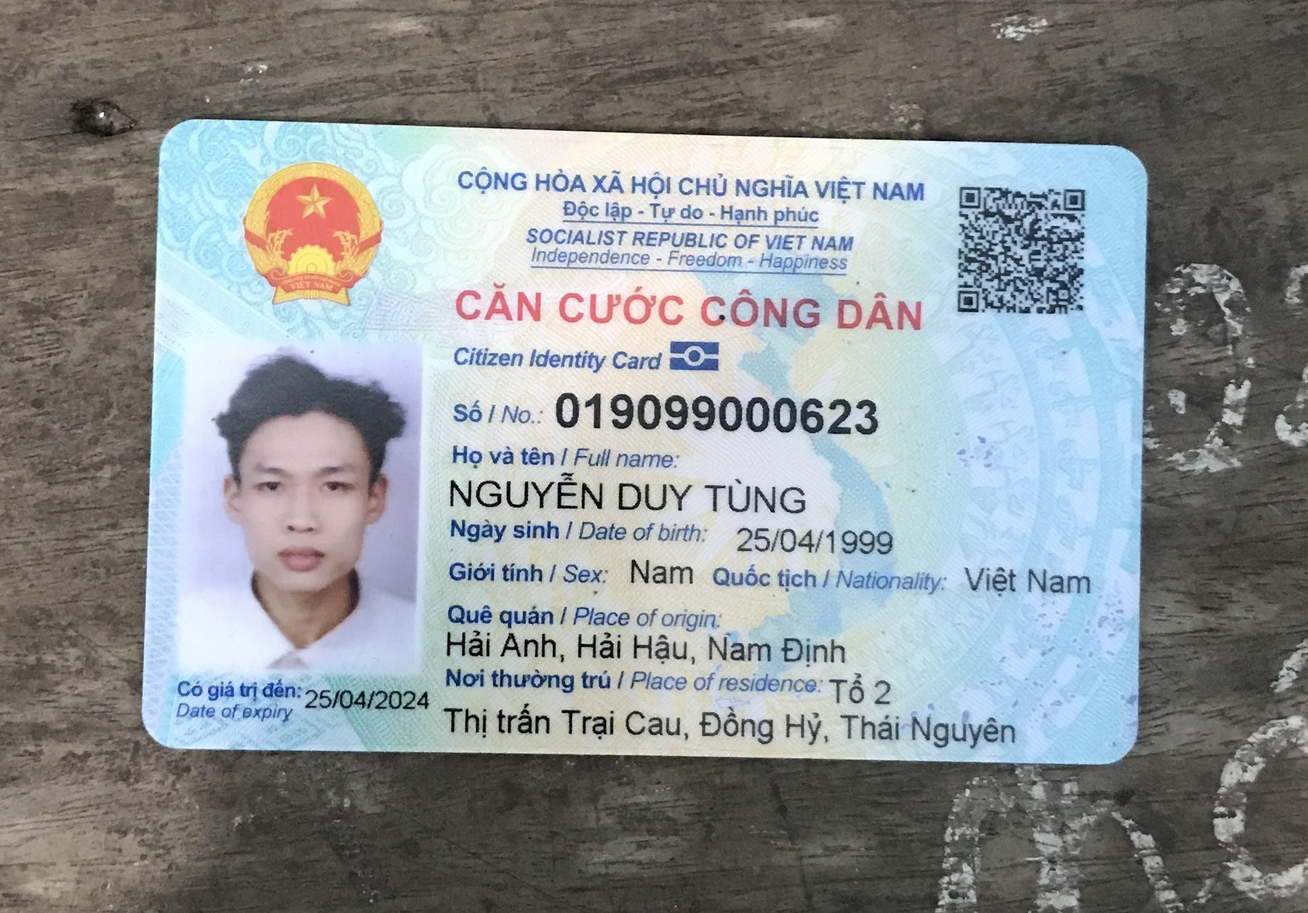ID: (539, 380, 898, 442)
birth: (726, 519, 899, 564)
name: (443, 472, 831, 520)
place: (434, 627, 878, 668)
residence: (436, 699, 1026, 755), (825, 673, 894, 714)
